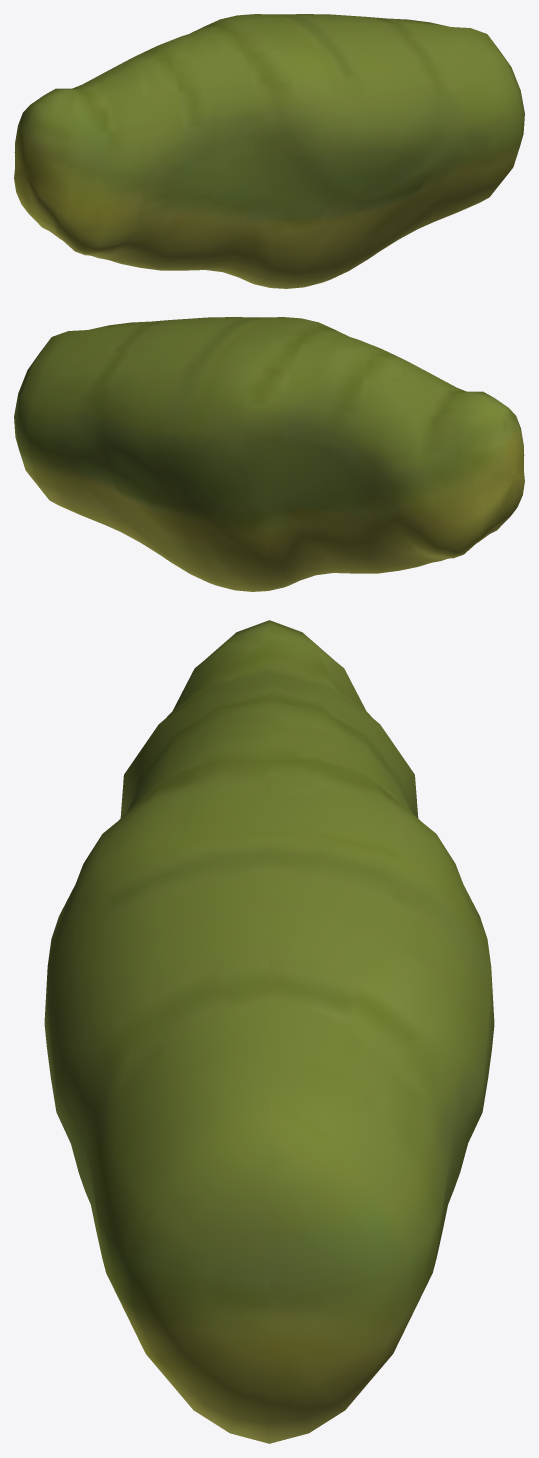
Rendered from Trex_Body_0.FBX.
The picture shows the model from 3 angles, top to bottom: view 1: azimuth 30°, elevation 25°; view 2: azimuth 150°, elevation 25°; view 3: azimuth 270°, elevation 25°; orthographic projection. The views are drawn at different scales.
Parts seen in each view (by area): view 1: Trex_Body_0; view 2: Trex_Body_0; view 3: Trex_Body_0.
Part boxes in pixels (bbox=[...]): Trex_Body_0: bbox=[14, 14, 524, 288]; Trex_Body_0: bbox=[14, 317, 524, 591]; Trex_Body_0: bbox=[44, 620, 494, 1443].
Size of the model in its own units: 3.75 by 1.99 by 1.51.
